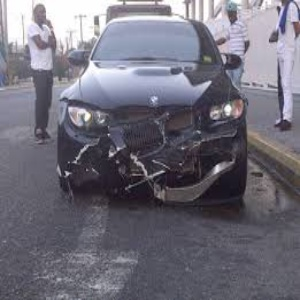bumper: (58, 136, 241, 208)
